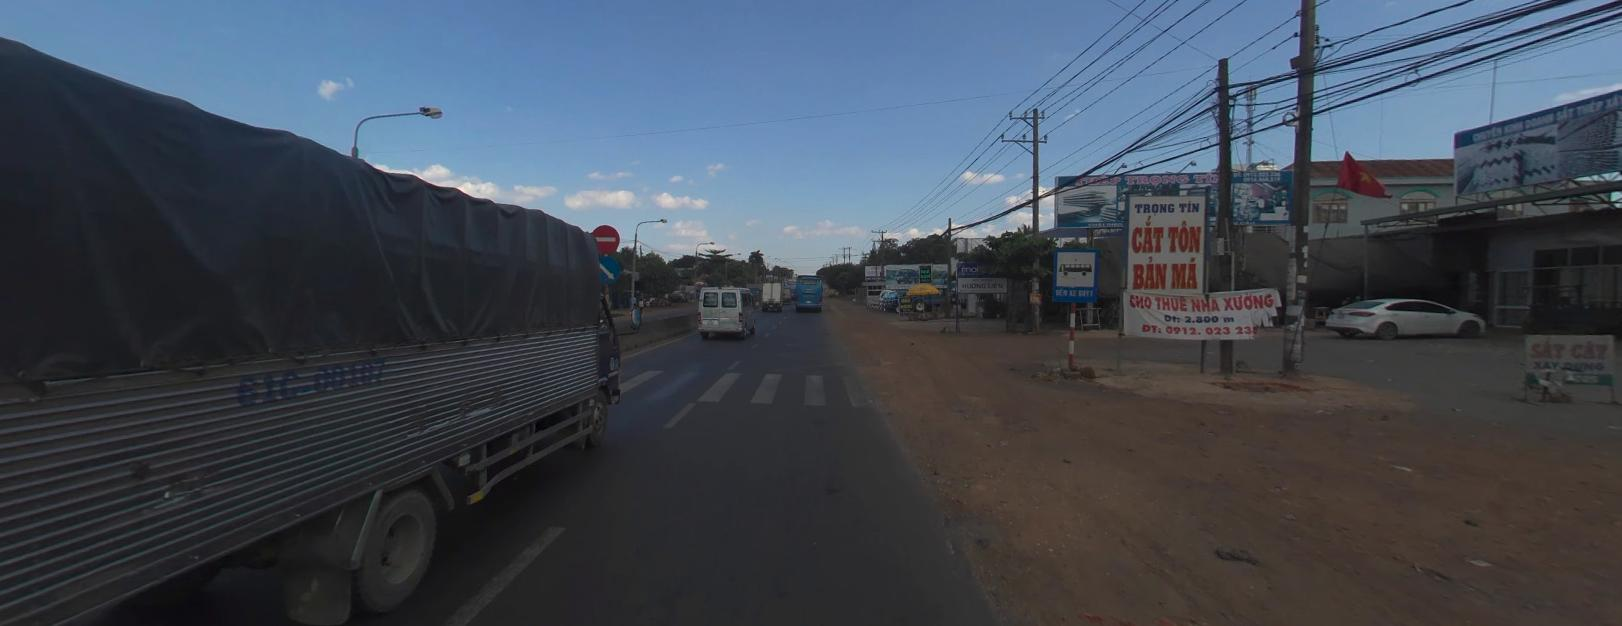Cam nguoc chieu: (590, 222, 620, 252)
Hieu lenh: (591, 254, 621, 284)
